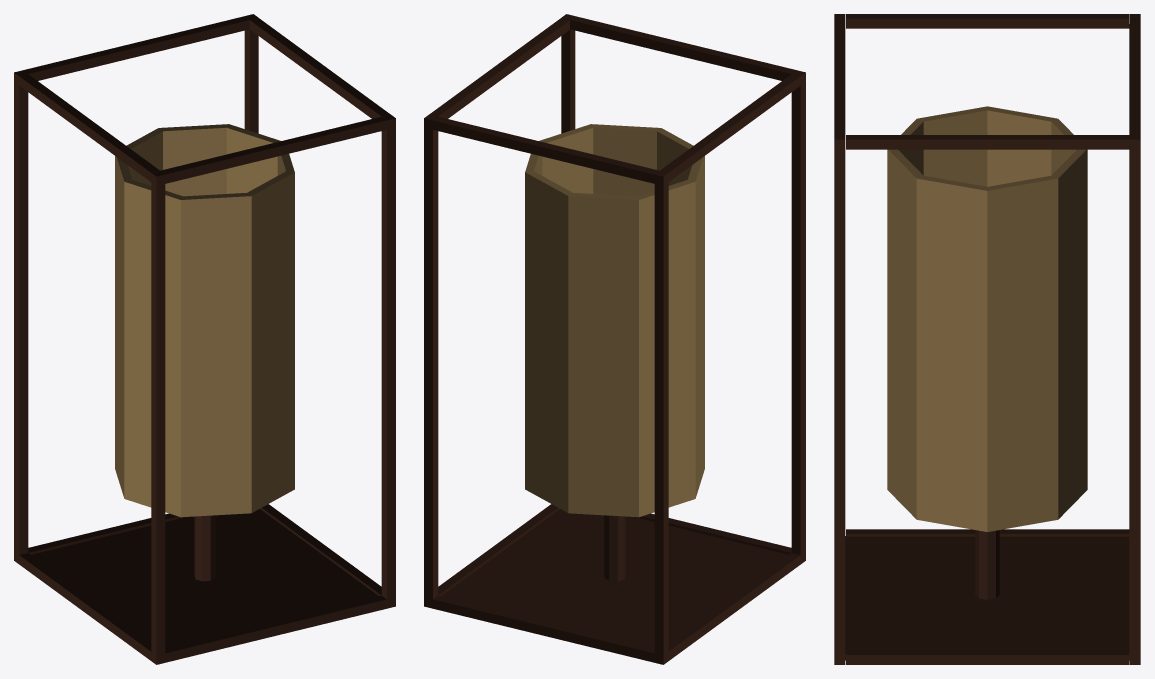
The model's file is Table Lamp 2.fbx.
The picture shows the model from 3 angles, left to right: view 1: azimuth 30°, elevation 25°; view 2: azimuth 150°, elevation 25°; view 3: azimuth 270°, elevation 25°; orthographic projection. The views are drawn at different scales.
Parts seen in each view (by area): view 1: Node 0; view 2: Node 0; view 3: Node 0.
Boxes of the visible parts, x1,y1,x2,y2 form: Node 0: [14, 14, 395, 664]; Node 0: [424, 14, 805, 664]; Node 0: [834, 14, 1140, 664].
Size of the model in its own units: 0.3406 by 0.6443 by 0.3307.
